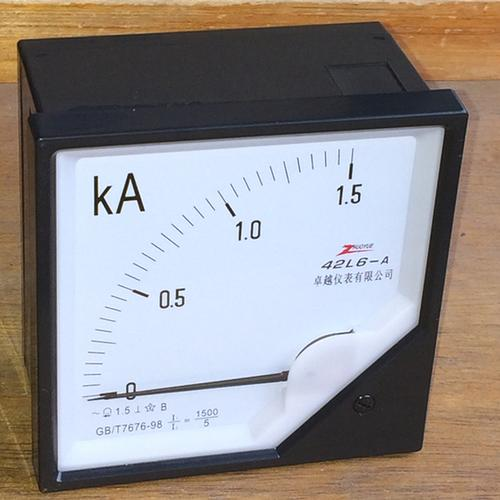pointer: (55, 125, 446, 474)
